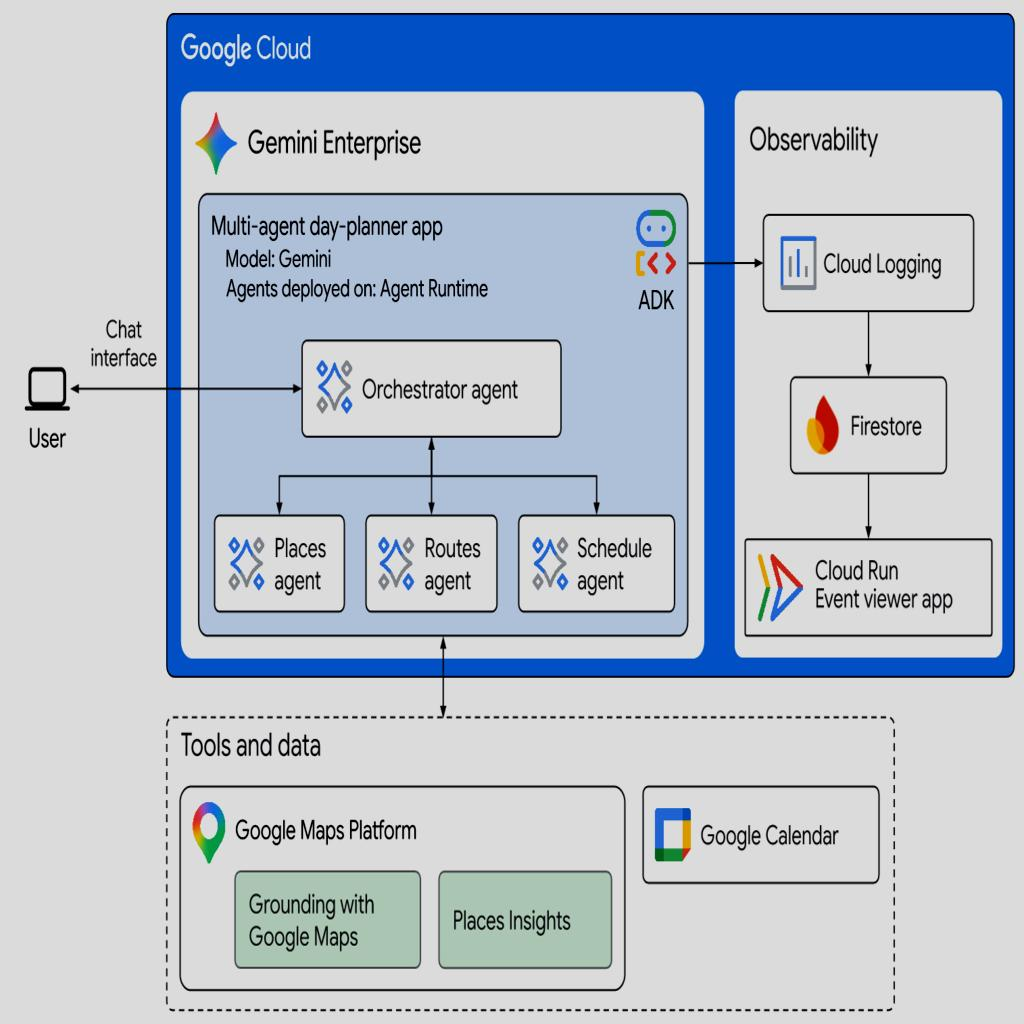actor: (24, 342, 68, 426)
compute: (301, 336, 559, 438), (744, 534, 992, 636), (763, 209, 974, 311), (364, 512, 496, 614), (530, 512, 662, 614), (213, 512, 344, 614)
data_flow: (69, 384, 302, 390), (276, 508, 596, 512), (440, 438, 445, 510), (684, 258, 762, 262), (866, 474, 871, 534), (440, 644, 445, 704), (866, 312, 871, 368)
database_storage: (642, 782, 878, 884), (763, 371, 974, 473)
trust_boundary: (165, 13, 1015, 679), (186, 102, 698, 624), (196, 194, 688, 634), (167, 716, 894, 1008), (729, 116, 995, 628), (174, 781, 635, 991)
